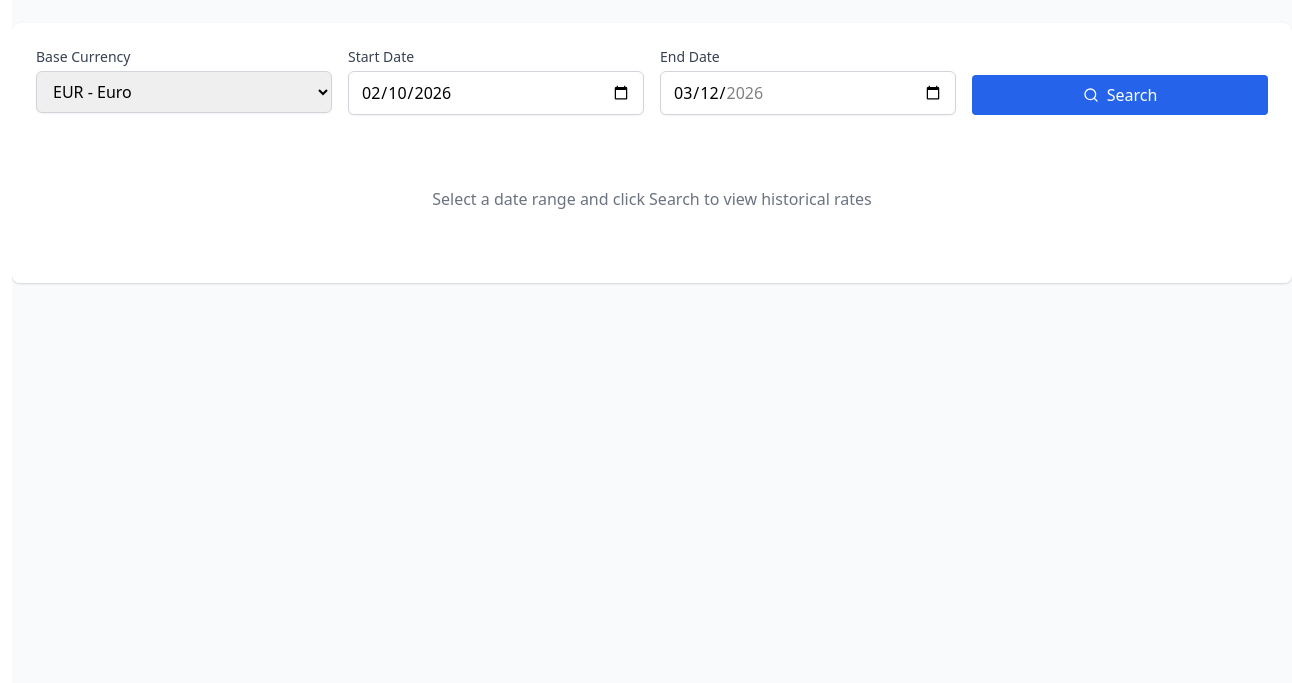
HistoryPage › displays pagination controls
Step 1. Click the button "Search" → (1120, 95), box top-left (972, 75), bottom-right (1268, 115)
(page scrolled)
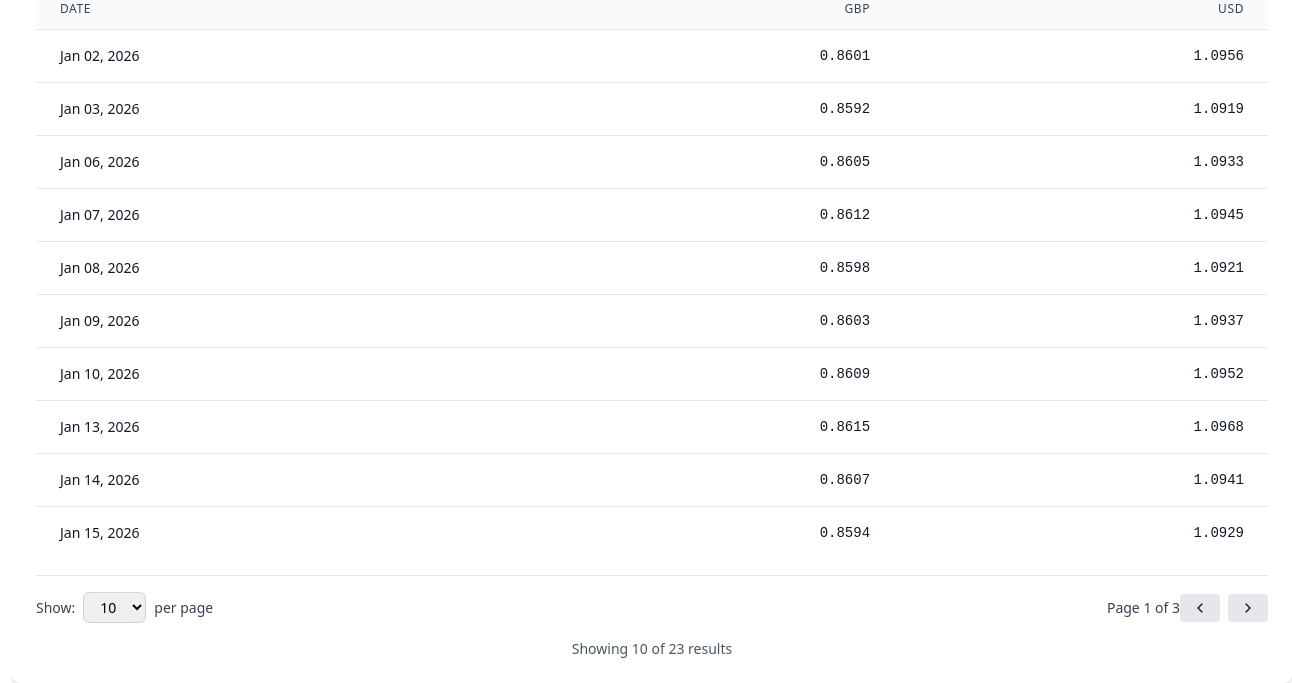
Expected: the button named "previous" is disabled, top-left (1180, 594), bottom-right (1220, 622)
Expected: the text "Page 1 of 3" is shown, top-left (1107, 598), bottom-right (1180, 618)
Expected: the button named "next" is shown, top-left (1228, 594), bottom-right (1268, 622)
